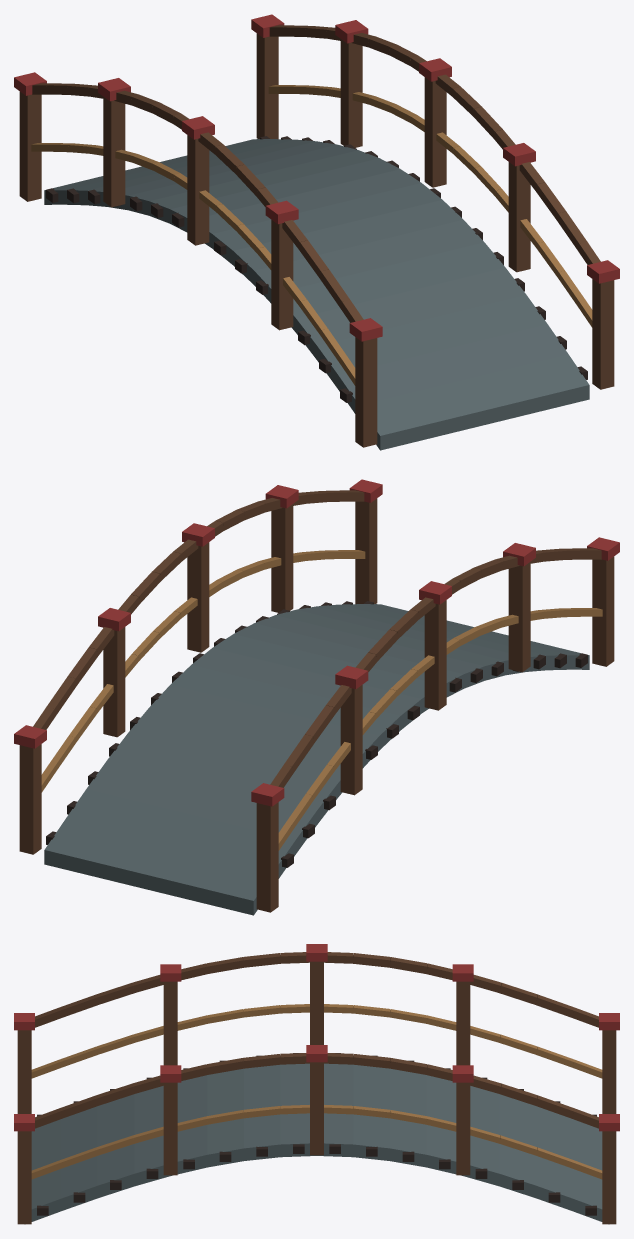
The model's file is PirateCove_ArchedBridge_Standard.glb.
3 renders of one model, top to bottom at view 1: azimuth 30°, elevation 25°; view 2: azimuth 150°, elevation 25°; view 3: azimuth 270°, elevation 25°, orthographic. The views are drawn at different scales.
Visible parts, largest first — view 1: PirateCove_ArchedBridge_Standard; view 2: PirateCove_ArchedBridge_Standard; view 3: PirateCove_ArchedBridge_Standard.
Boxes of the visible parts, x1,y1,x2,y2 form: PirateCove_ArchedBridge_Standard: (14, 14, 619, 450); PirateCove_ArchedBridge_Standard: (14, 479, 619, 915); PirateCove_ArchedBridge_Standard: (14, 944, 619, 1224).
Bounding box in the file's own units: 2.22 × 1.71 × 5.18.
